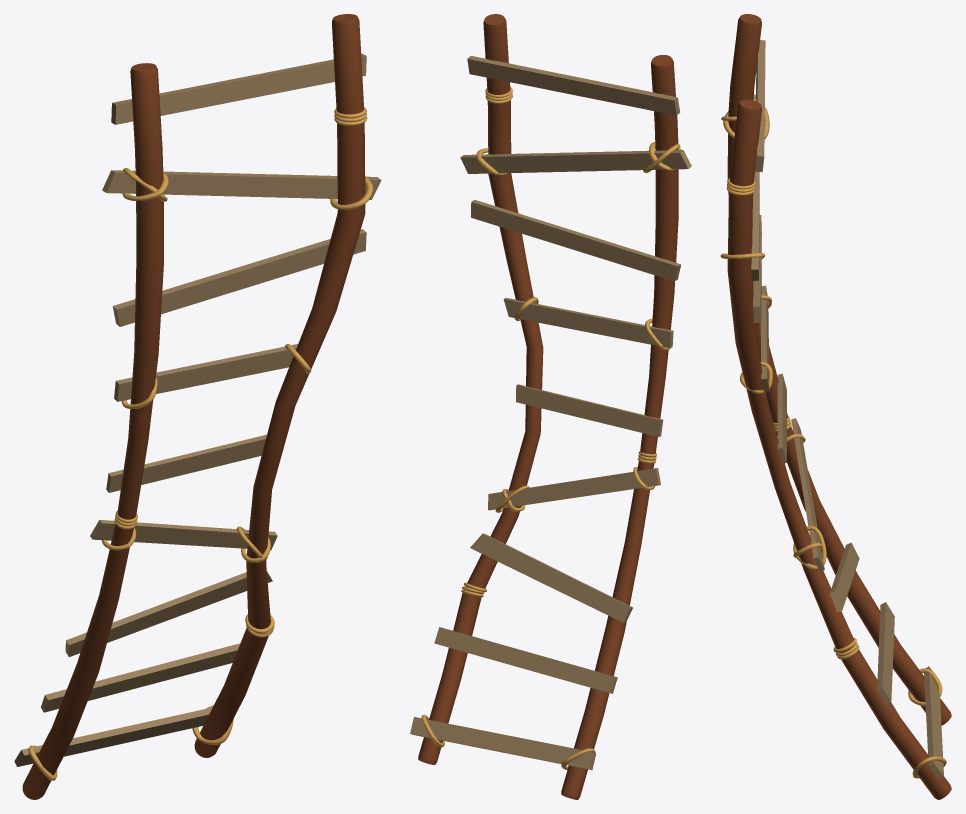
The model's file is Wooden Ladder.fbx.
3 views of the same model, side by side, from view 1: azimuth 30°, elevation 25°; view 2: azimuth 150°, elevation 25°; view 3: azimuth 270°, elevation 25° (orthographic). The views are drawn at different scales.
Visible parts, largest first — view 1: Ladder Wooden.008; view 2: Ladder Wooden.008; view 3: Ladder Wooden.008.
Boxes of the visible parts, x1,y1,x2,y2 form: Ladder Wooden.008: (14, 14, 381, 799); Ladder Wooden.008: (410, 14, 691, 799); Ladder Wooden.008: (720, 14, 951, 799).
Size of the model in its own units: 3770 by 10648 by 3155.
